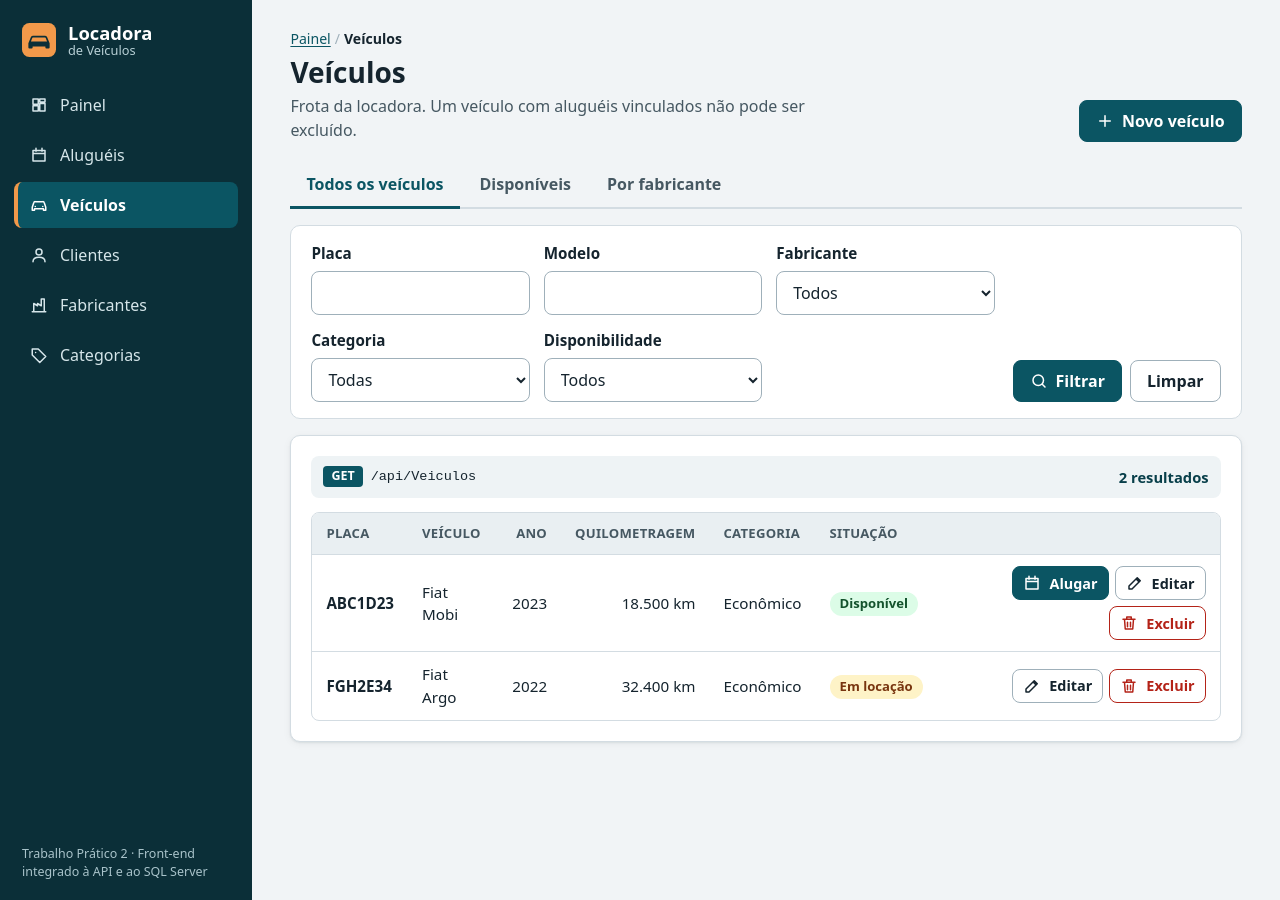
Test case: Veículos › mostra o conflito ao excluir um veículo com aluguéis
Click the button with aria-label "Excluir veículo FGH2E34". click: (1157, 686)
box: [1109, 669, 1206, 703]
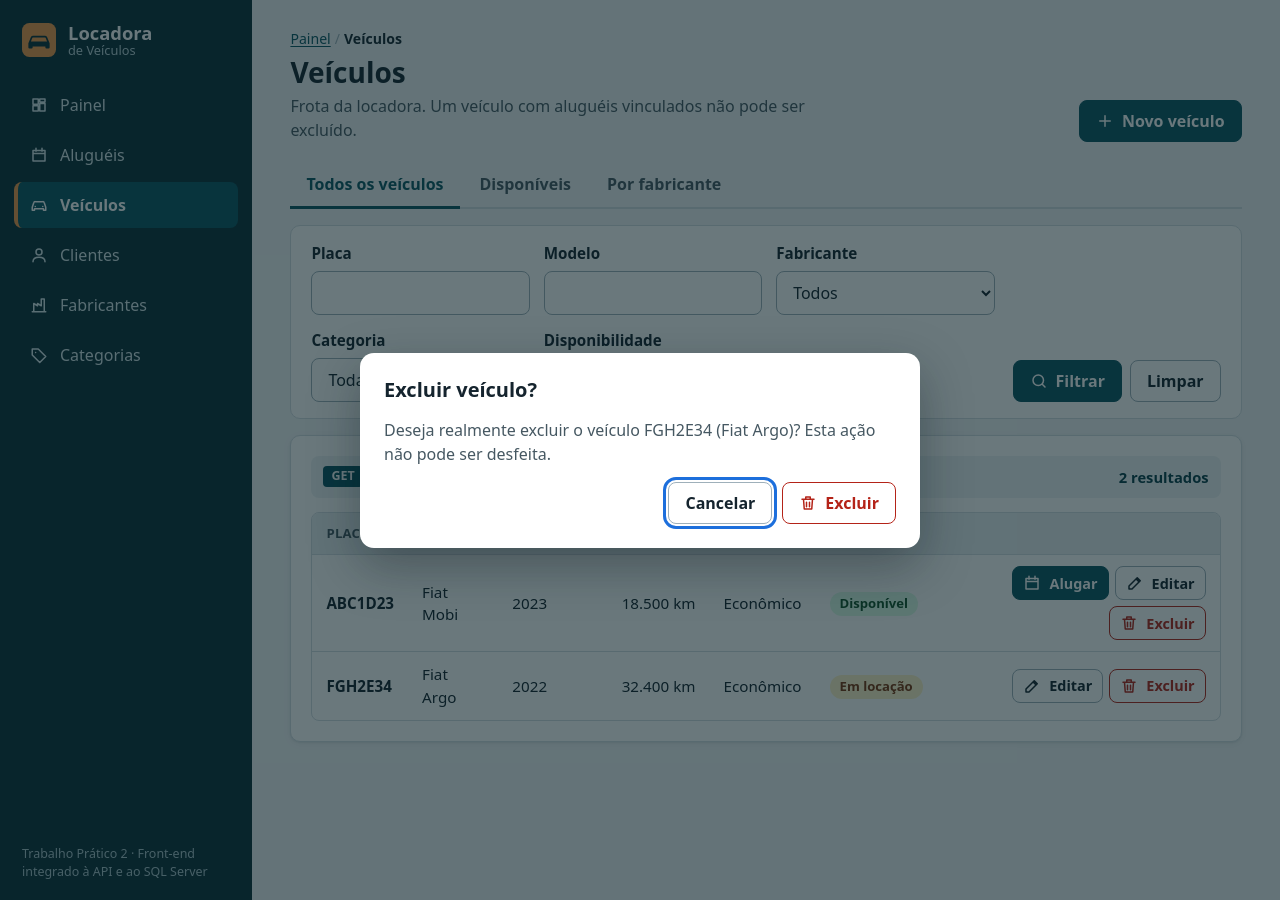
Check: the dialog "Excluir veículo?" shows "FGH2E34 (Fiat Argo)", box [384, 418, 875, 464]
Click the button "Excluir". click: (839, 502)
box: [782, 482, 896, 524]
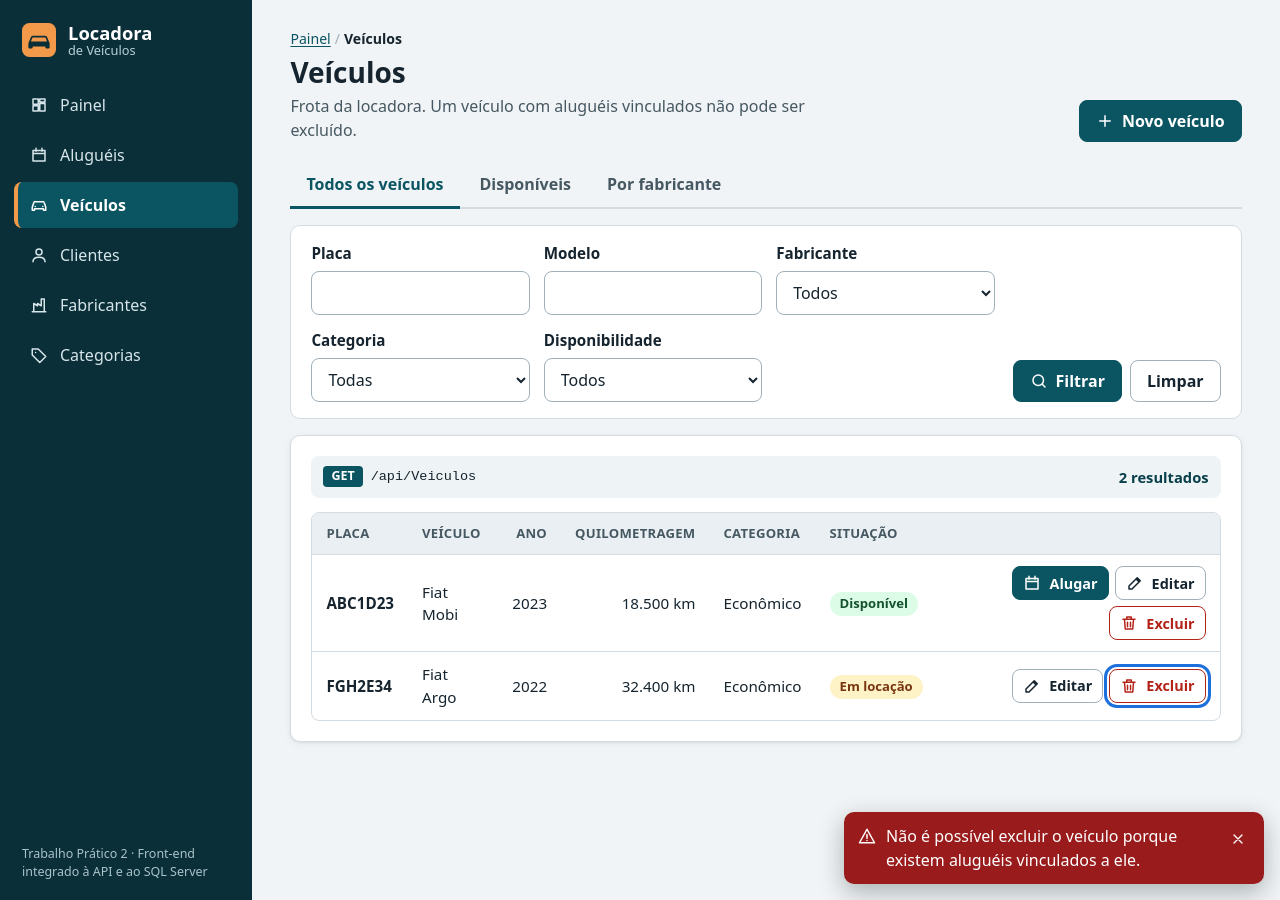
Check: the message shows "existem aluguéis vinculados a ele", box [886, 825, 1177, 871]
